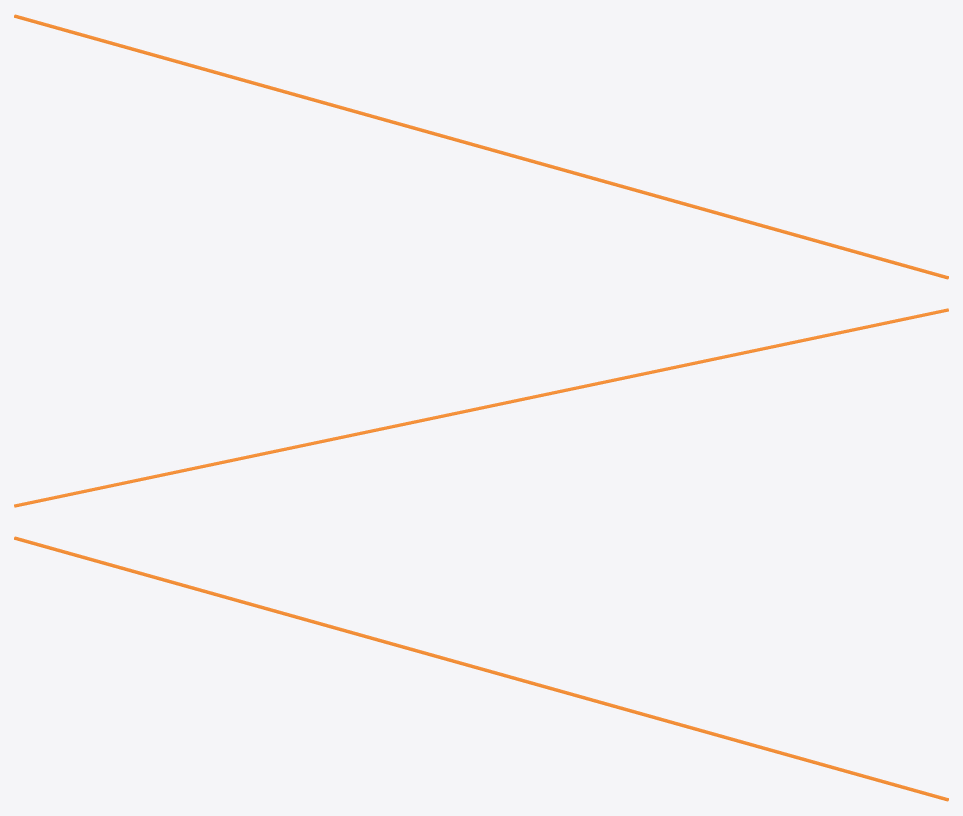
3 renders of one model, top to bottom at view 1: azimuth 90°, elevation 25°; view 2: azimuth 150°, elevation 25°; view 3: azimuth 270°, elevation 25°, orthographic. The views are drawn at different scales.
Visible parts, largest first — view 1: BezierCurve.014; view 2: BezierCurve.014; view 3: BezierCurve.014.
Boxes of the visible parts, x1=… form: BezierCurve.014: x1=14, y1=14, x2=948, y2=279; BezierCurve.014: x1=14, y1=308, x2=948, y2=507; BezierCurve.014: x1=14, y1=536, x2=948, y2=801.
Size of the model in its own units: 17.78 by 0.1 by 26.72.
